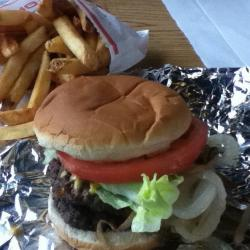burger: (43, 78, 229, 250)
fries: (1, 5, 135, 84)
